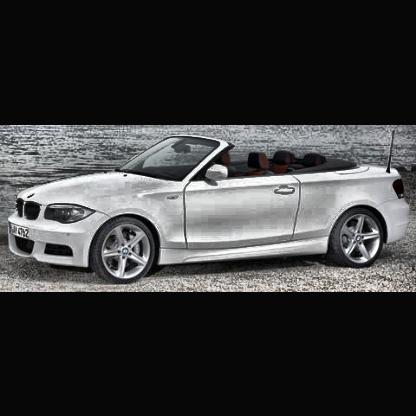BMW 1 Series Convertible 2012: (9, 135, 411, 284)
